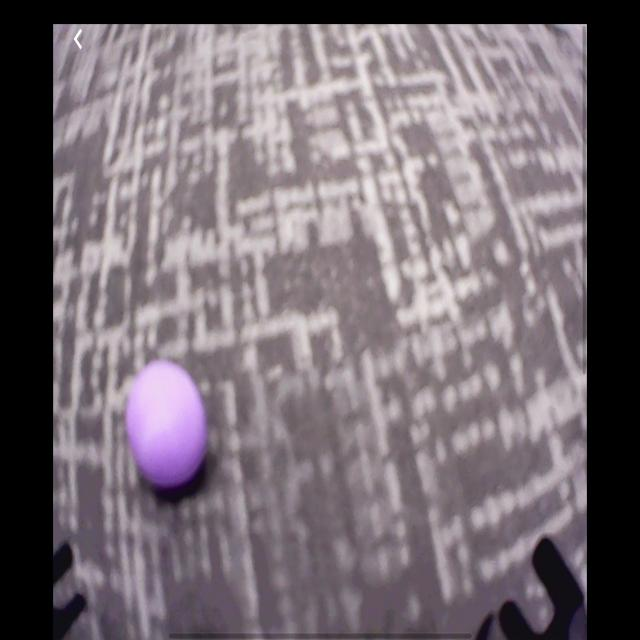ball: (127, 361, 210, 495)
